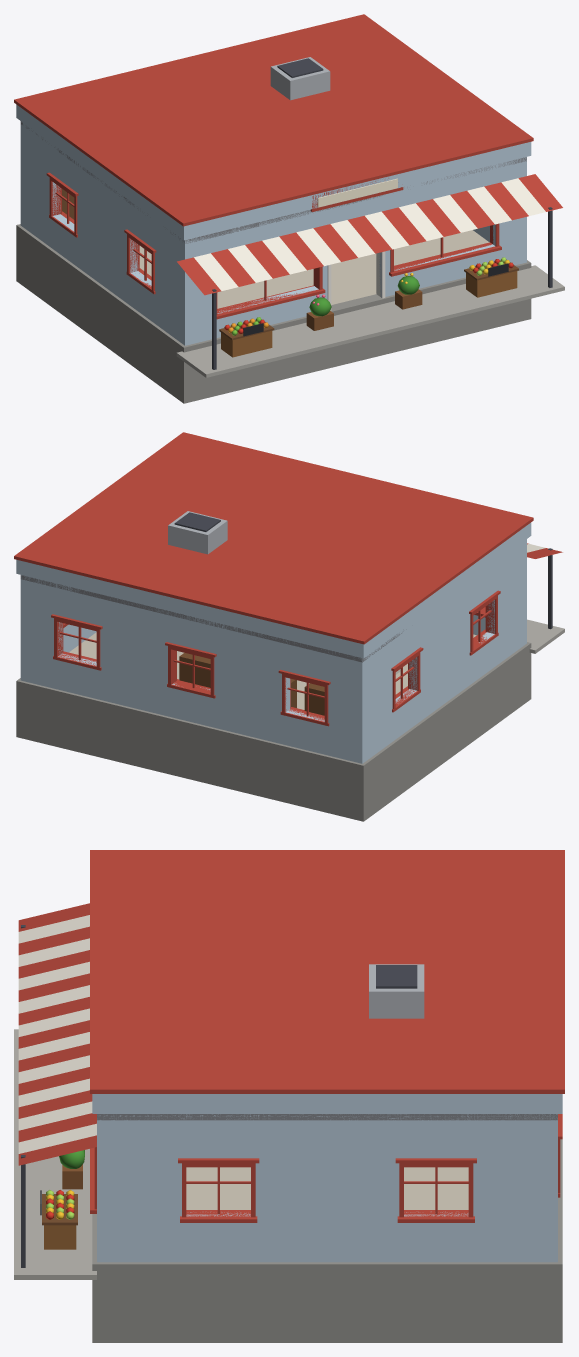
Rendered from Shop.glb.
3 renders of one model, top to bottom at view 1: azimuth 30°, elevation 25°; view 2: azimuth 150°, elevation 25°; view 3: azimuth 270°, elevation 25°, orthographic. The views are drawn at different scales.
Parts seen in each view (by area): view 1: Shop; view 2: Shop; view 3: Shop.
Part boxes in pixels (x1,y1,x2,y2): Shop: [14, 14, 564, 403]; Shop: [14, 432, 564, 821]; Shop: [14, 850, 564, 1342].
Bounding box in the file's own units: 12.6 × 6.78 × 11.95.
